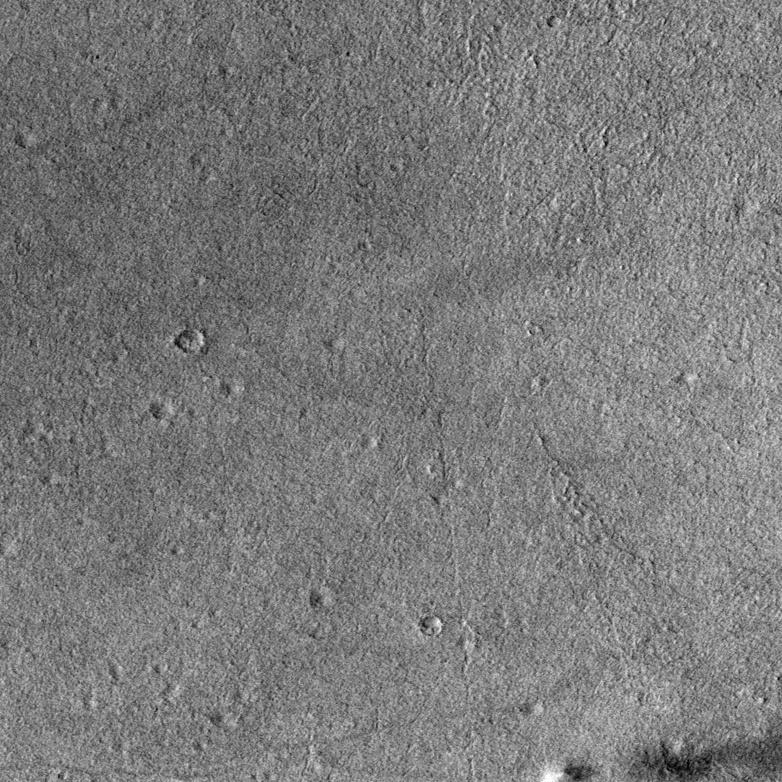dust_devil: (538, 723, 782, 782)
